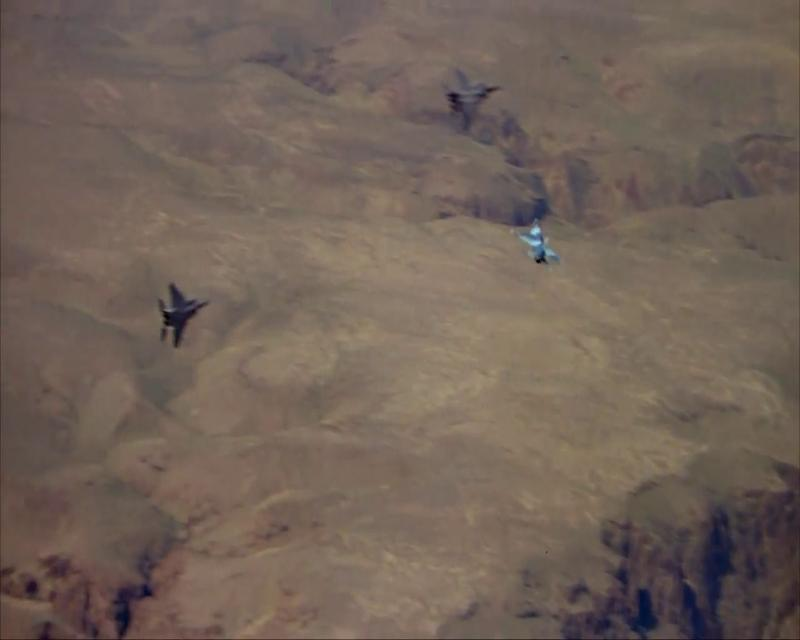UAV: (156, 280, 209, 348), (509, 217, 560, 266)
